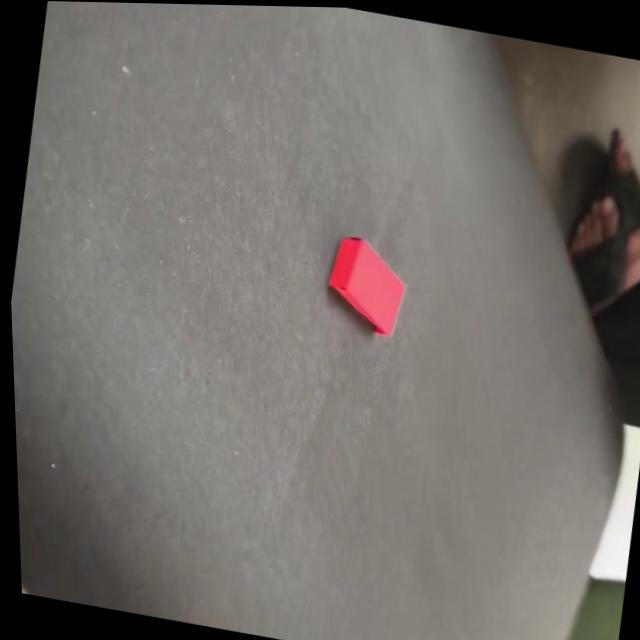red block: (319, 230, 415, 339)
